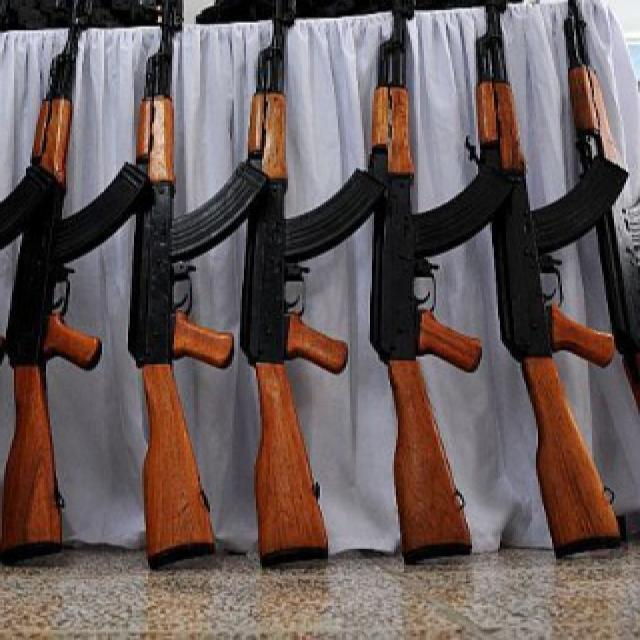rifle: (471, 2, 640, 566), (343, 5, 485, 583), (121, 1, 241, 587), (233, 4, 345, 573), (3, 1, 103, 590), (549, 1, 640, 402)
